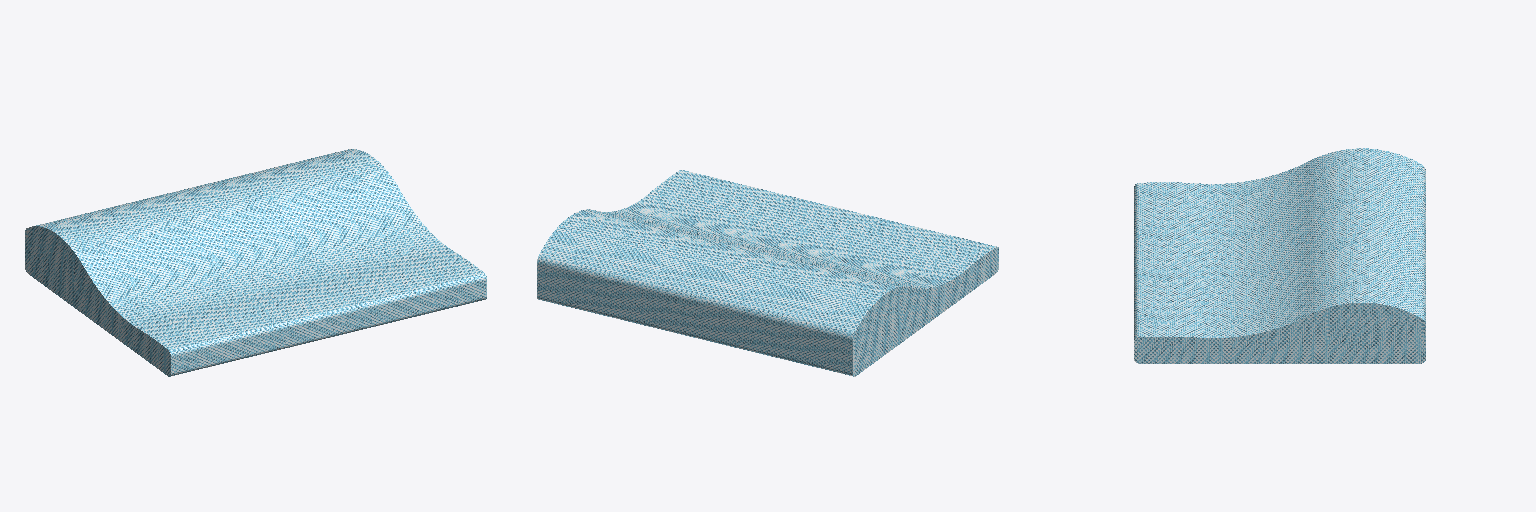
3 views of the same model, side by side, from view 1: azimuth 30°, elevation 25°; view 2: azimuth 150°, elevation 25°; view 3: azimuth 270°, elevation 25° (orthographic).
Visible parts, largest first — view 1: sky; view 2: sky; view 3: sky.
Boxes of the visible parts, x1,y1,x2,y2 form: sky: [25, 149, 486, 376]; sky: [537, 170, 998, 376]; sky: [1134, 148, 1425, 363].
Bounding box in the file's own units: 5.72 × 1.05 × 4.58.
Materials: 1 (1 with a texture image).